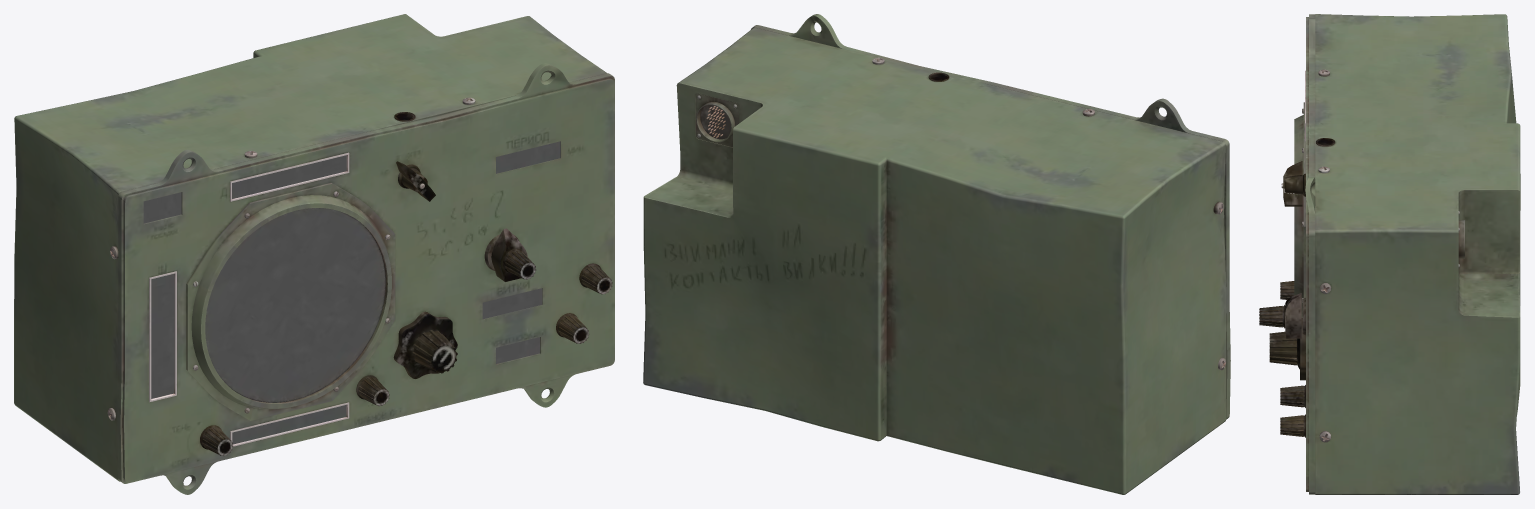
The model's file is vintage_spacecraft_instrument.glb.
3 renders of one model, left to right at view 1: azimuth 30°, elevation 25°; view 2: azimuth 150°, elevation 25°; view 3: azimuth 270°, elevation 25°, orthographic. The views are drawn at different scales.
Parts seen in each view (by area): view 1: vintage_spacecraft_instrument; view 2: vintage_spacecraft_instrument; view 3: vintage_spacecraft_instrument.
Part boxes in pixels (x1,y1,x2,y2): vintage_spacecraft_instrument: (14,14,614,494); vintage_spacecraft_instrument: (643,14,1230,494); vintage_spacecraft_instrument: (1259,14,1520,494).
Bounding box in the file's own units: 0.4103 × 0.2693 × 0.2044.
2 materials, 2 textured.
